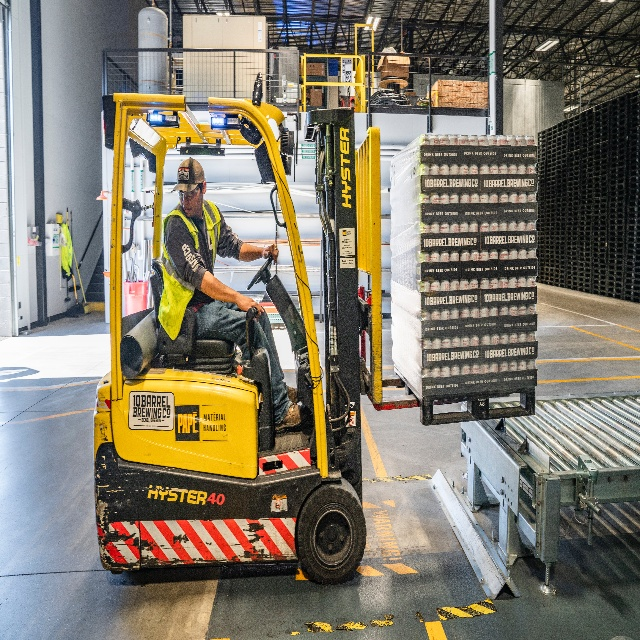Gafas: (176, 184, 200, 201)
Sin_guantes: (236, 291, 264, 322), (263, 244, 280, 265)
